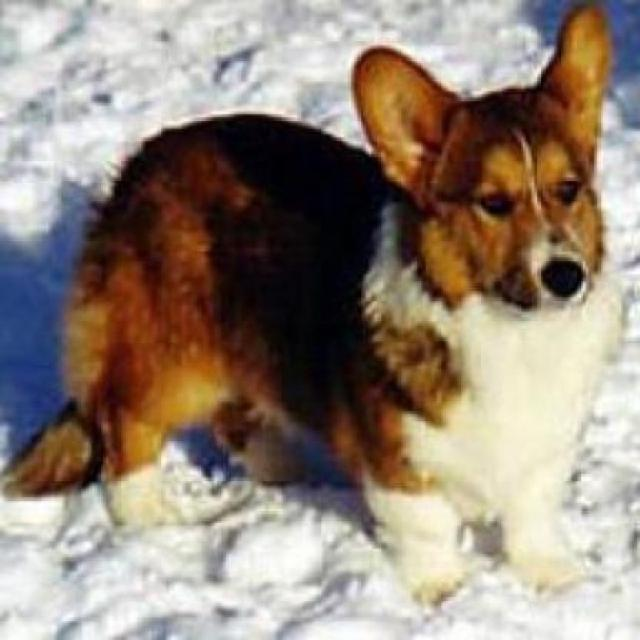Dog: (6, 0, 620, 603)
